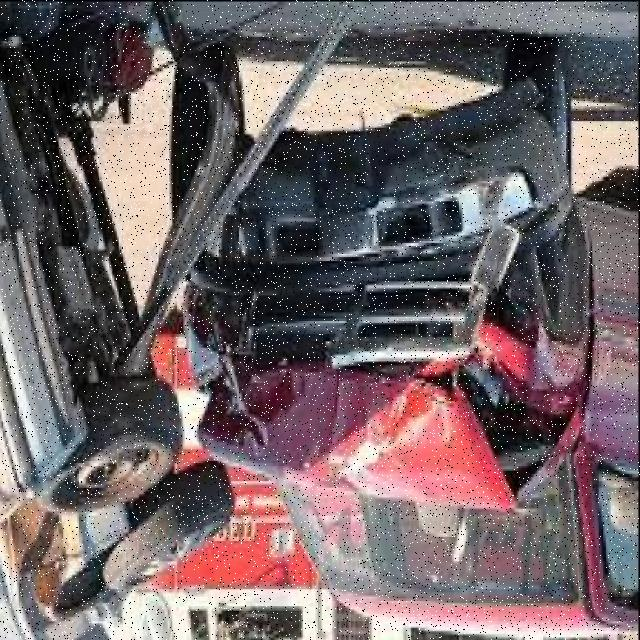damage: (191, 82, 596, 497)
